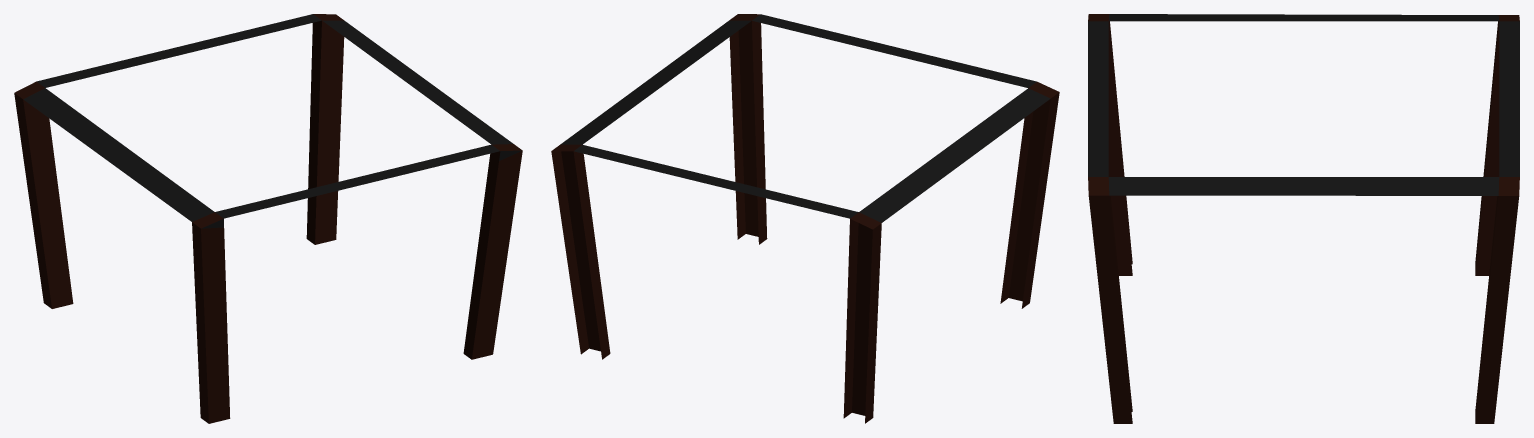
Rendered from canopy_2x2_norope.obj.
The picture shows the model from 3 angles, left to right: view 1: azimuth 30°, elevation 25°; view 2: azimuth 150°, elevation 25°; view 3: azimuth 270°, elevation 25°; orthographic projection. The views are drawn at different scales.
Parts seen in each view (by area): view 1: net_canopy_2x2.001; view 2: net_canopy_2x2.001; view 3: net_canopy_2x2.001.
Boxes of the visible parts, left/top/right/bottom form: net_canopy_2x2.001: left=14, top=14, right=522, bottom=423; net_canopy_2x2.001: left=551, top=14, right=1059, bottom=423; net_canopy_2x2.001: left=1088, top=14, right=1519, bottom=423.
Bounding box in the file's own units: 1.97 × 1.24 × 1.98.
